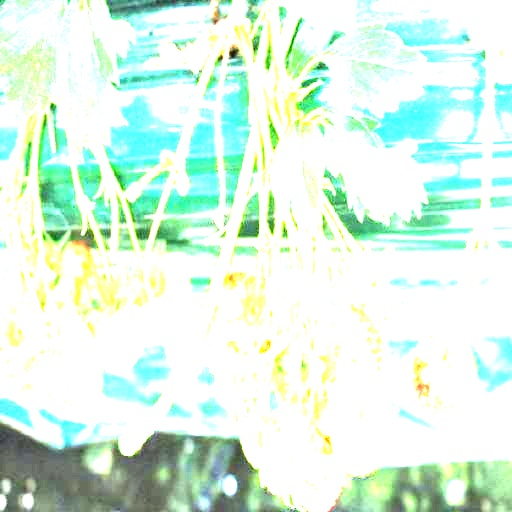Gray Mold: (147, 293, 202, 377)
